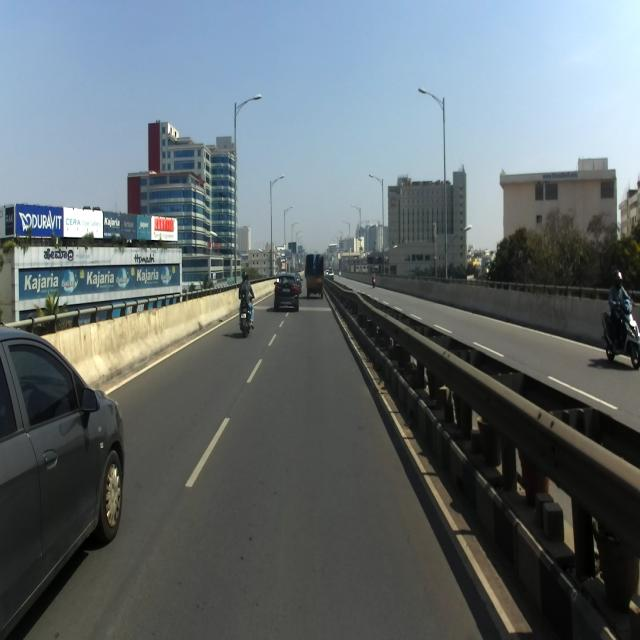car ahead at: (0, 323, 125, 636)
